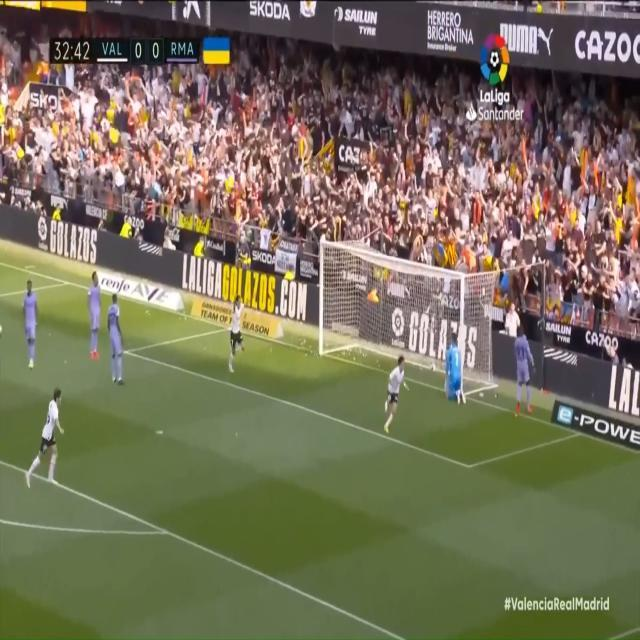ball: (429, 361, 437, 380)
goalkeeper: (446, 334, 466, 408)
player: (31, 384, 67, 503), (104, 283, 133, 399), (18, 275, 45, 375), (512, 327, 538, 421), (83, 266, 105, 374), (224, 296, 249, 381), (384, 354, 403, 445)
